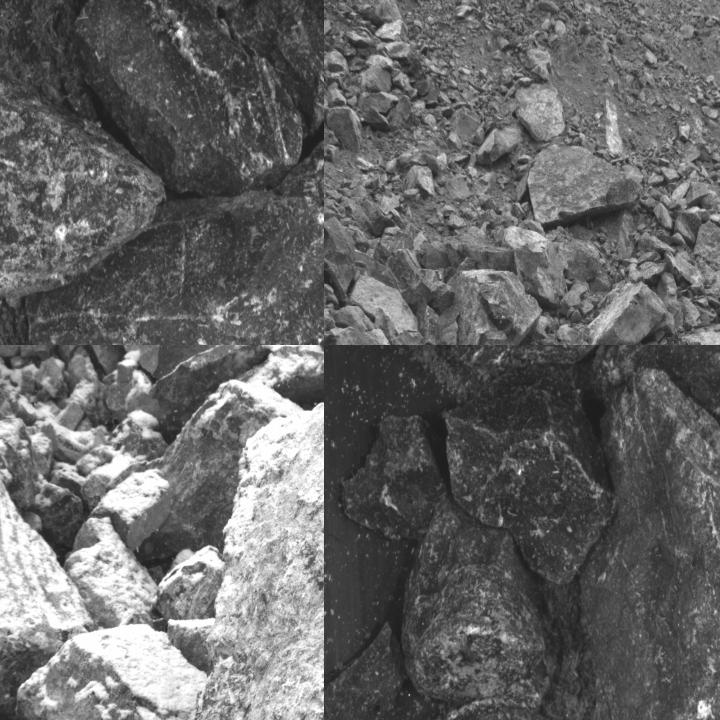stone: (159, 373, 323, 719), (573, 353, 719, 719), (73, 0, 304, 199), (24, 191, 323, 344), (0, 30, 165, 299), (406, 486, 559, 706), (444, 382, 604, 581), (0, 414, 92, 715), (15, 623, 205, 719), (227, 0, 323, 141), (345, 417, 436, 554), (595, 345, 719, 433), (269, 82, 323, 269), (528, 144, 647, 225), (79, 457, 172, 549), (449, 269, 544, 344), (453, 345, 608, 390), (579, 281, 667, 344), (349, 275, 424, 344), (96, 345, 235, 382), (157, 545, 221, 621), (419, 691, 592, 719), (378, 250, 437, 321), (514, 82, 564, 140), (324, 214, 358, 296), (536, 237, 570, 305), (167, 0, 256, 22), (326, 108, 365, 154), (331, 326, 420, 344), (375, 227, 416, 264), (694, 222, 719, 273), (421, 304, 443, 344), (557, 282, 585, 313), (682, 325, 719, 344), (640, 260, 666, 284), (675, 217, 694, 244), (653, 202, 672, 228), (628, 264, 645, 286)
